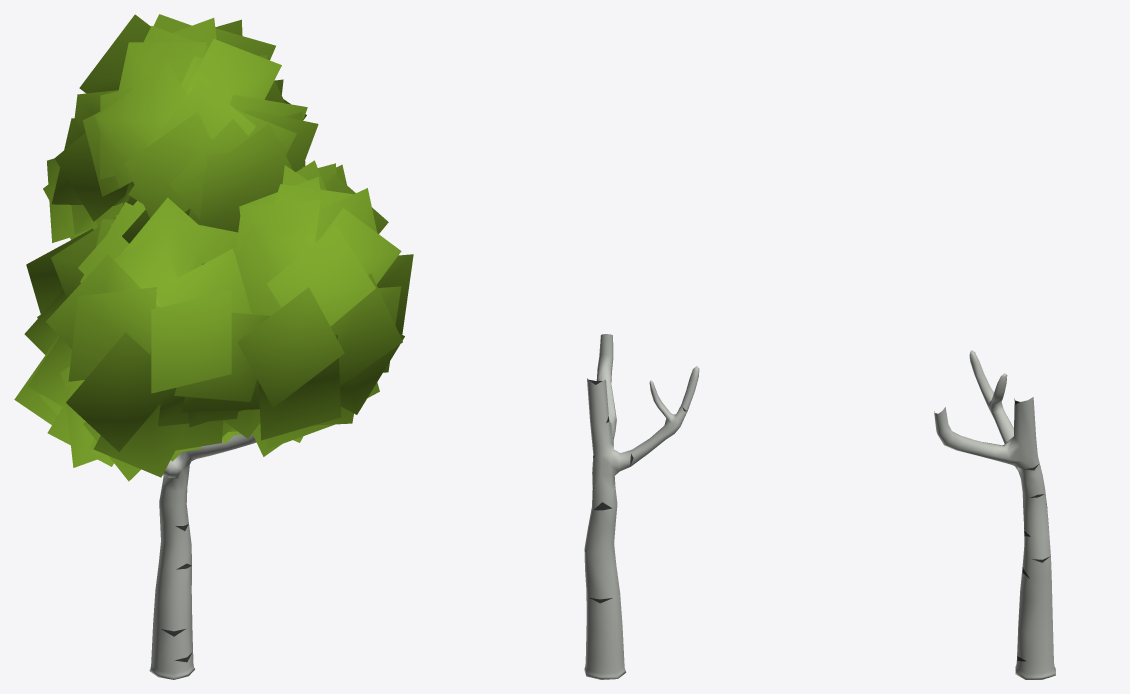
Rendered from BirchFlat.glb.
The picture shows the model from 3 angles, left to right: view 1: azimuth 30°, elevation 25°; view 2: azimuth 150°, elevation 25°; view 3: azimuth 270°, elevation 25°; orthographic projection. The views are drawn at different scales.
Parts seen in each view (by area): view 1: Foliage, Birch; view 2: Birch; view 3: Birch.
Part boxes in pixels (x1,y1,x2,y2): Foliage: [14, 14, 413, 481]; Birch: [149, 433, 256, 679]; Birch: [584, 334, 699, 679]; Birch: [934, 350, 1055, 679].
Size of the model in its own units: 3.36 by 5.67 by 1.98.
